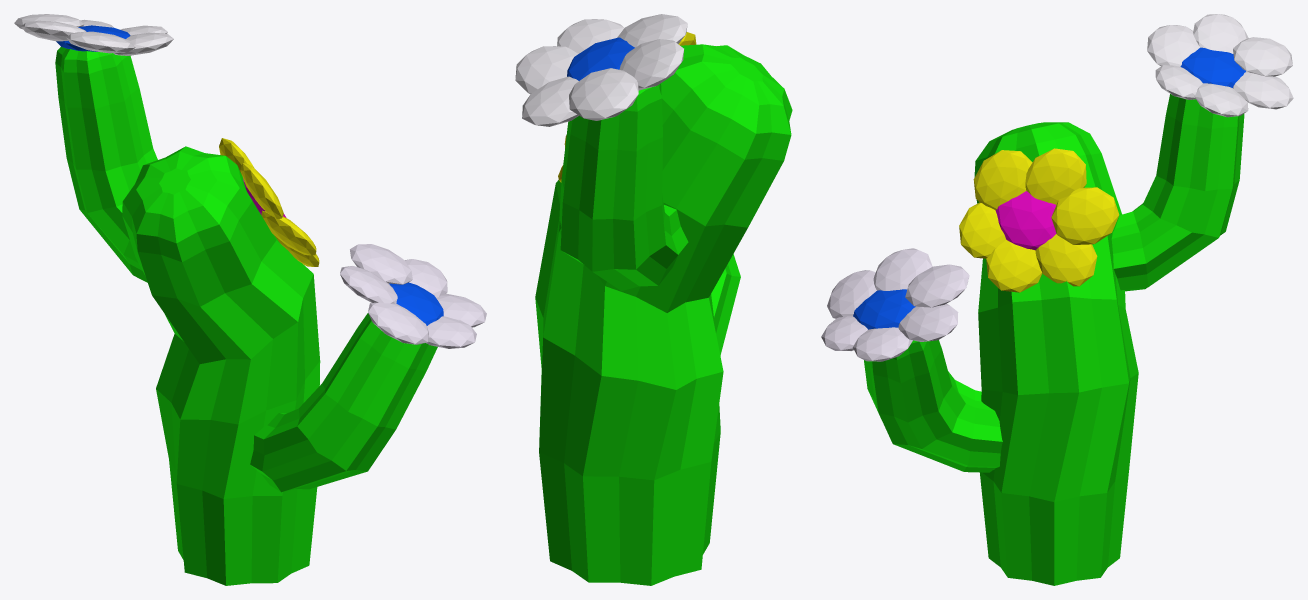
File: cactus4.fbx
3 renders of one model, left to right at view 1: azimuth 30°, elevation 25°; view 2: azimuth 150°, elevation 25°; view 3: azimuth 270°, elevation 25°, orthographic. The views are drawn at different scales.
Parts seen in each view (by area): view 1: Cylinder.001, Cylinder.002, Cylinder, Icosphere.015, Icosphere.019, Icosphere.017, Icosphere.020, Icosphere.014, Icosphere.006, Icosphere.005, Icosphere.008, Icosphere.016 (+3 smaller); view 2: Cylinder.001, Cylinder, Icosphere.012, Icosphere.010, Icosphere.011, Icosphere.009, Icosphere.013, Icosphere.008, Cylinder.002, Icosphere.007; view 3: Cylinder.001, Cylinder, Cylinder.002, Icosphere.001, Icosphere.003, Icosphere, Icosphere.005, Icosphere.002, Icosphere.004, Icosphere.019, Icosphere.006, Icosphere.012 (+12 smaller).
Boxes of the visible parts, bbox=[...] form: Cylinder.001: bbox=[122, 146, 320, 585]; Cylinder.002: bbox=[250, 313, 437, 492]; Cylinder: bbox=[55, 47, 157, 282]; Icosphere.015: bbox=[368, 302, 428, 344]; Icosphere.019: bbox=[350, 244, 412, 284]; Icosphere.017: bbox=[340, 266, 397, 303]; Icosphere.020: bbox=[389, 282, 443, 325]; Icosphere.014: bbox=[426, 316, 476, 348]; Icosphere.006: bbox=[261, 210, 316, 255]; Icosphere.005: bbox=[240, 163, 283, 218]; Icosphere.008: bbox=[66, 31, 135, 53]; Icosphere.016: bbox=[436, 293, 486, 327]; Cylinder.001: bbox=[535, 44, 792, 585]; Cylinder: bbox=[559, 83, 688, 290]; Icosphere.012: bbox=[569, 68, 638, 120]; Icosphere.010: bbox=[619, 39, 684, 90]; Icosphere.011: bbox=[522, 76, 578, 126]; Icosphere.009: bbox=[515, 46, 578, 94]; Icosphere.013: bbox=[567, 37, 634, 80]; Icosphere.008: bbox=[617, 14, 687, 47]; Cylinder.002: bbox=[711, 254, 740, 355]; Icosphere.007: bbox=[557, 19, 624, 53]; Cylinder.001: bbox=[974, 122, 1138, 585]; Cylinder: bbox=[1111, 94, 1244, 291]; Cylinder.002: bbox=[864, 340, 1002, 472]; Icosphere.001: bbox=[1051, 187, 1119, 244]; Icosphere.003: bbox=[1025, 148, 1086, 204]; Icosphere: bbox=[995, 191, 1056, 250]; Icosphere.005: bbox=[973, 150, 1032, 210]; Icosphere.002: bbox=[1035, 234, 1097, 286]; Icosphere.004: bbox=[986, 239, 1042, 292]; Icosphere.019: bbox=[905, 264, 969, 307]; Icosphere.006: bbox=[959, 202, 1005, 258]; Icosphere.012: bbox=[1233, 37, 1292, 76].
Size of the model in its own units: 475 by 818 by 720.
